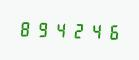eight: (17, 18, 33, 38)
four: (86, 20, 102, 41), (52, 19, 68, 39)
nine: (34, 18, 50, 39)
six: (103, 21, 119, 41)
two: (69, 19, 85, 40)
